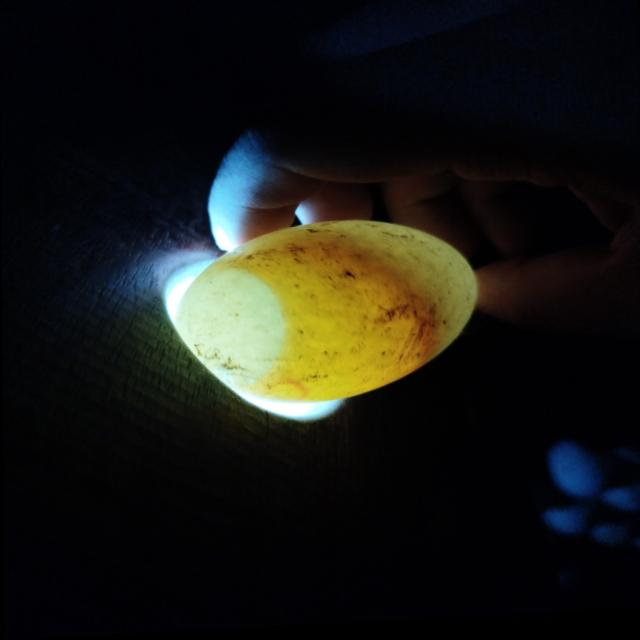Camara de Ar: (176, 273, 283, 390)
